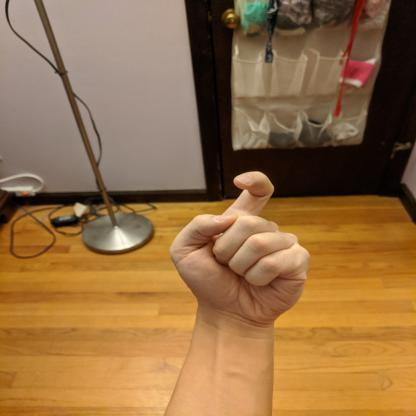X: (166, 168, 316, 327)
